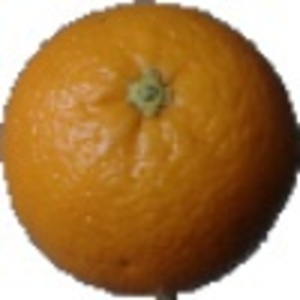laranja: (4, 3, 296, 298)
